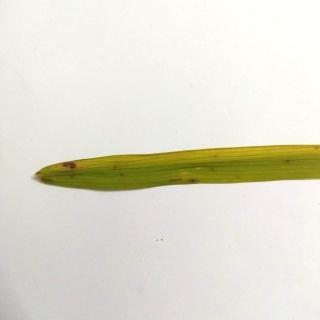bercak-Cokelat: (58, 157, 82, 173)
